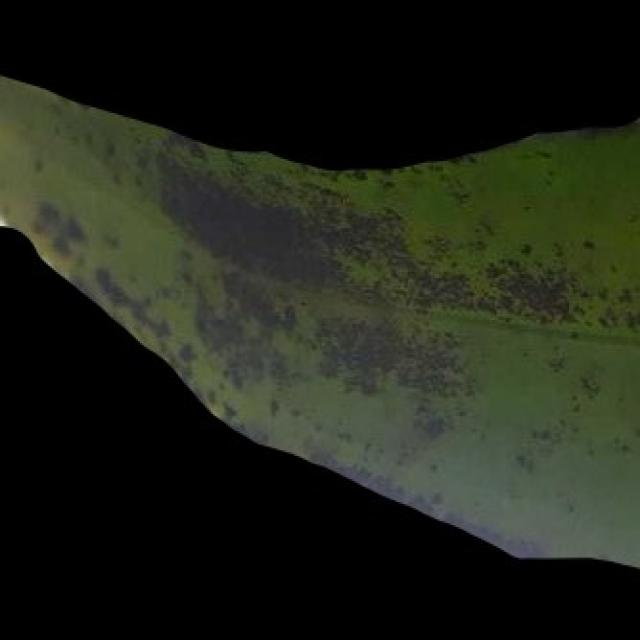mite: (406, 207, 638, 469), (312, 310, 406, 395), (577, 372, 600, 395), (575, 232, 598, 255), (174, 339, 195, 362), (514, 236, 535, 259), (546, 353, 565, 372), (517, 240, 533, 255), (625, 207, 638, 224), (581, 238, 596, 251)
